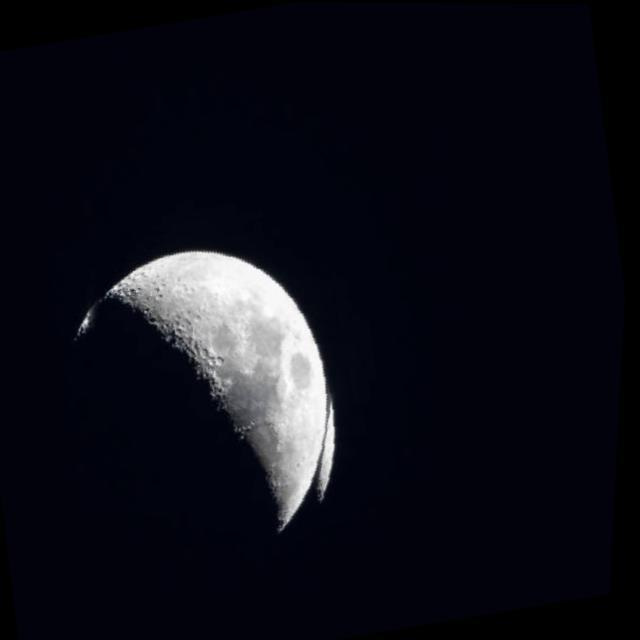moon: (39, 202, 398, 580)
